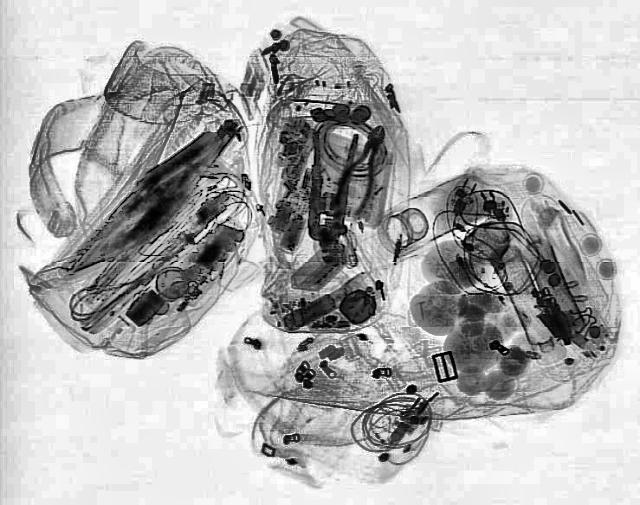Pliers: (299, 128, 359, 242)
